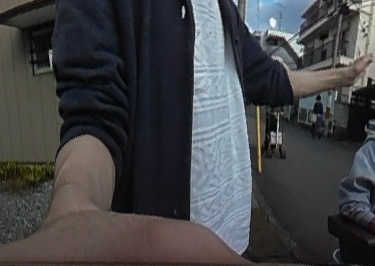person: (264, 103, 282, 154), (312, 90, 326, 139)
